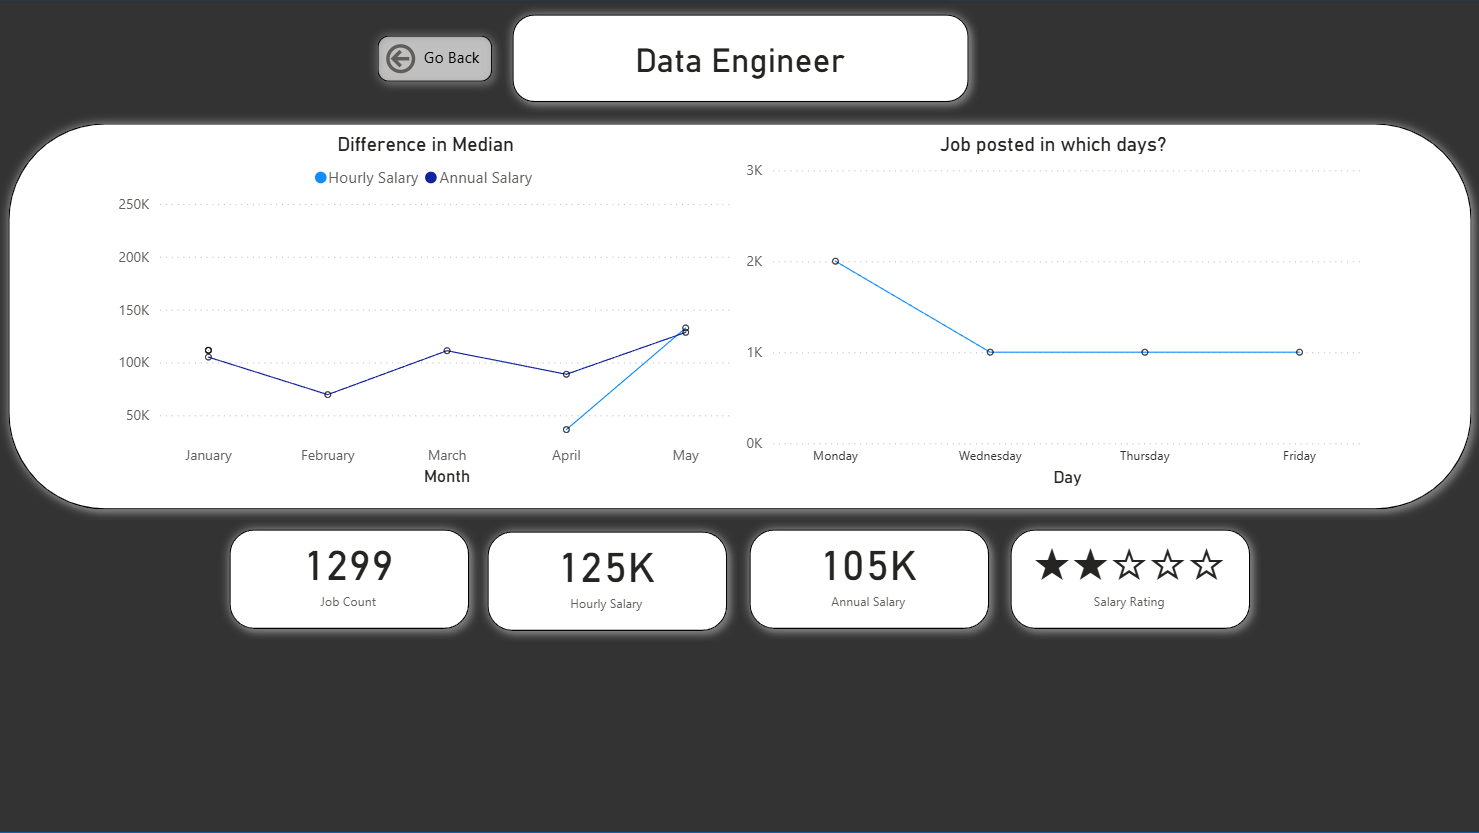

This screenshot's page, from the dashboard's own definition file:
{"tool":"powerbi","page":{"name":"Job Count - Drill Through","canvas":[1280,720],"ordinal":1},"visuals":[{"type":"shape","title":"BG","box":[0,0,1280,719.7],"z":0},{"type":"shape","title":"Bar & Scatter BG","box":[190.6,98.9,224.8,103.8],"z":0,"group":"g4"},{"type":"group","id":"g1","title":"Hourly Salary (ADJ)","box":[415.4,98.9,224.8,103.8],"z":0,"group":"g5"},{"type":"shape","title":"Bar & Scatter BG","box":[415.4,98.9,224.8,103.8],"z":0,"group":"g1"},{"type":"shape","title":"Bar & Scatter BG","box":[639.5,98.9,224.8,103.8],"z":0,"group":"g3"},{"type":"shape","title":"Bar & Scatter BG","box":[864.4,98.9,224.8,103.8],"z":0,"group":"g2"},{"type":"shape","title":"Title & Slicer (BG)","box":[434.6,4.6,411.5,93.6],"z":500,"group":"g7"},{"type":"group","id":"g2","title":"Salary Rating","box":[864.4,98.9,224.9,103.5],"z":500,"group":"g5"},{"type":"group","id":"g3","title":"Annual Salary","box":[639.5,98.9,224.8,103.8],"z":1000,"group":"g5"},{"type":"card","fields":{"Values":["CountNonNull(Live-Data.Job_Title_General)"]},"box":[205.6,100.7,193.7,84.4],"z":1000,"group":"g4"},{"type":"card","fields":{"Values":["Median(Live-Data.Hourly_Salary_Adj)"]},"box":[430.4,100.7,193.7,84.4],"z":1000,"group":"g1"},{"type":"card","fields":{"Values":["Median(Live-Data.Annual_Salary)"]},"box":[654.5,100.7,193.7,84.4],"z":1000,"group":"g3"},{"type":"card","fields":{"Values":["Live-Data.Annual_Salary_Rating"]},"box":[879.4,100.7,193.7,84.4],"z":1000,"group":"g2"},{"type":"shape","title":"Pie - BG","box":[0,453,1280,251],"z":1000},{"type":"map","title":"Job Locale","fields":{"Category":["Live-Data.Job_Country"],"Size":["CountNonNull(Live-Data.Job_Title_General)"]},"box":[322.6,473.1,632.8,210.1],"z":1500},{"type":"actionButton","box":[311.9,22.4,122.7,58],"z":2000},{"type":"group","id":"g4","title":"Job Count","box":[190.6,98.9,224.8,103.8],"z":2000,"group":"g5"},{"type":"card","fields":{"Values":["Min(Live-Data.Job_Title_General)"]},"box":[451.4,21.3,375.9,60],"z":3000,"group":"g7"},{"type":"group","id":"g5","title":"Major Metrics","box":[190.6,98.9,898.8,103.5],"z":4000},{"type":"shape","title":"Pie - BG","box":[0,202.5,1280,251.3],"z":4500,"group":"g6"},{"type":"group","id":"g6","title":"Pie Graphs","box":[0,202.5,1280,251.3],"z":5000},{"type":"donutChart","title":"Work from home?","fields":{"Category":["Live-Data.Job_WFH"],"Y":["CountNonNull(Live-Data.Job_Title_General)"]},"box":[52.8,217.7,292.1,220.9],"z":5000,"group":"g6"},{"type":"group","id":"g7","title":"Title","box":[434.6,4.6,411.5,93.6],"z":5500},{"type":"donutChart","title":"Need Degree?","fields":{"Category":["Live-Data.Job_Req_Degree"],"Y":["CountNonNull(Live-Data.Job_Title_General)"]},"box":[347.1,217.7,292.1,220.9],"z":6000,"group":"g6"},{"type":"donutChart","title":"Health Insurance?","fields":{"Y":["CountNonNull(Live-Data.Job_Title_General)"],"Category":["Live-Data.Job_HealthInsurance"]},"box":[641.4,217.7,292.1,220.9],"z":7000,"group":"g6"},{"type":"donutChart","title":"Work Schedule?","fields":{"Category":["Live-Data.Job_Schedule_Type"],"Series":["Live-Data.Job_Schedule_Type"],"Y":["CountNonNull(Live-Data.Job_Title_General)"]},"box":[935.8,217.7,292.1,220.9],"z":8000,"group":"g6"}]}

Visuals, with their boxes in screenshot pixels (x1, y1, x2, y2), scaled from the page's 1280x720 canvas onto the 1479x833 screenshot:
"BG" shape: 0, 0, 1478, 832
"Bar & Scatter BG" shape: 220, 114, 480, 235
"Hourly Salary (ADJ)" group: 480, 114, 740, 235
"Bar & Scatter BG" shape: 480, 114, 740, 235
"Bar & Scatter BG" shape: 739, 114, 999, 235
"Bar & Scatter BG" shape: 999, 114, 1259, 235
"Title & Slicer (BG)" shape: 502, 5, 978, 114
"Salary Rating" group: 999, 114, 1259, 234
"Annual Salary" group: 739, 114, 999, 235
card - CountNonNull(Live-Data.Job_Title_General): 238, 117, 461, 214
card - Median(Live-Data.Hourly_Salary_Adj): 497, 117, 721, 214
card - Median(Live-Data.Annual_Salary): 756, 117, 980, 214
card - Live-Data.Annual_Salary_Rating: 1016, 117, 1240, 214
"Pie - BG" shape: 0, 524, 1478, 814
"Job Locale" map: 373, 547, 1104, 790
actionButton: 360, 26, 502, 93
"Job Count" group: 220, 114, 480, 235
card - Min(Live-Data.Job_Title_General): 522, 25, 956, 94
"Major Metrics" group: 220, 114, 1259, 234
"Pie - BG" shape: 0, 234, 1478, 525
"Pie Graphs" group: 0, 234, 1478, 525
"Work from home?" donutChart: 61, 252, 399, 507
"Title" group: 502, 5, 978, 114
"Need Degree?" donutChart: 401, 252, 739, 507
"Health Insurance?" donutChart: 741, 252, 1079, 507
"Work Schedule?" donutChart: 1081, 252, 1419, 507
